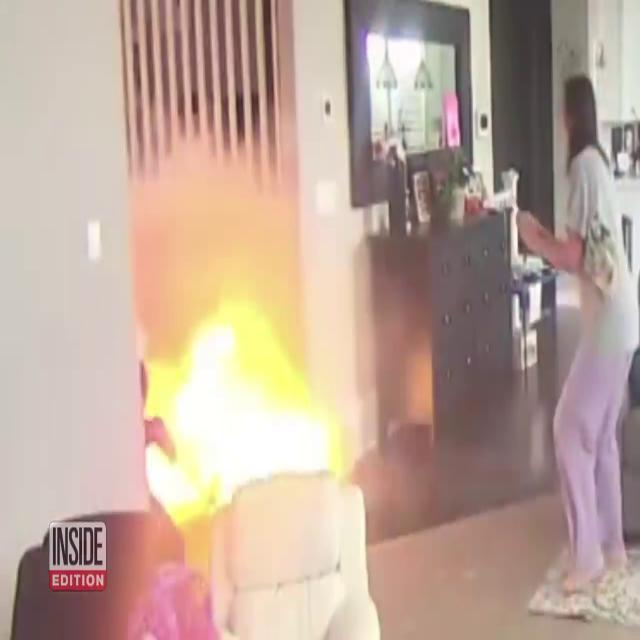Fire: (134, 263, 343, 525)
Smoke: (121, 105, 322, 320)
